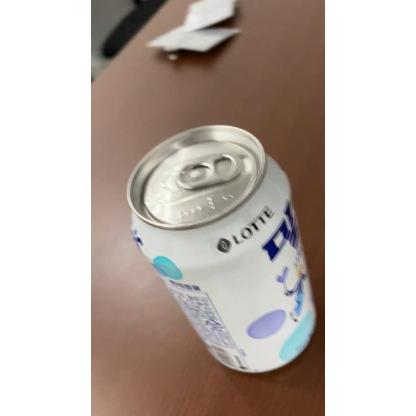Can: (124, 124, 316, 374)
